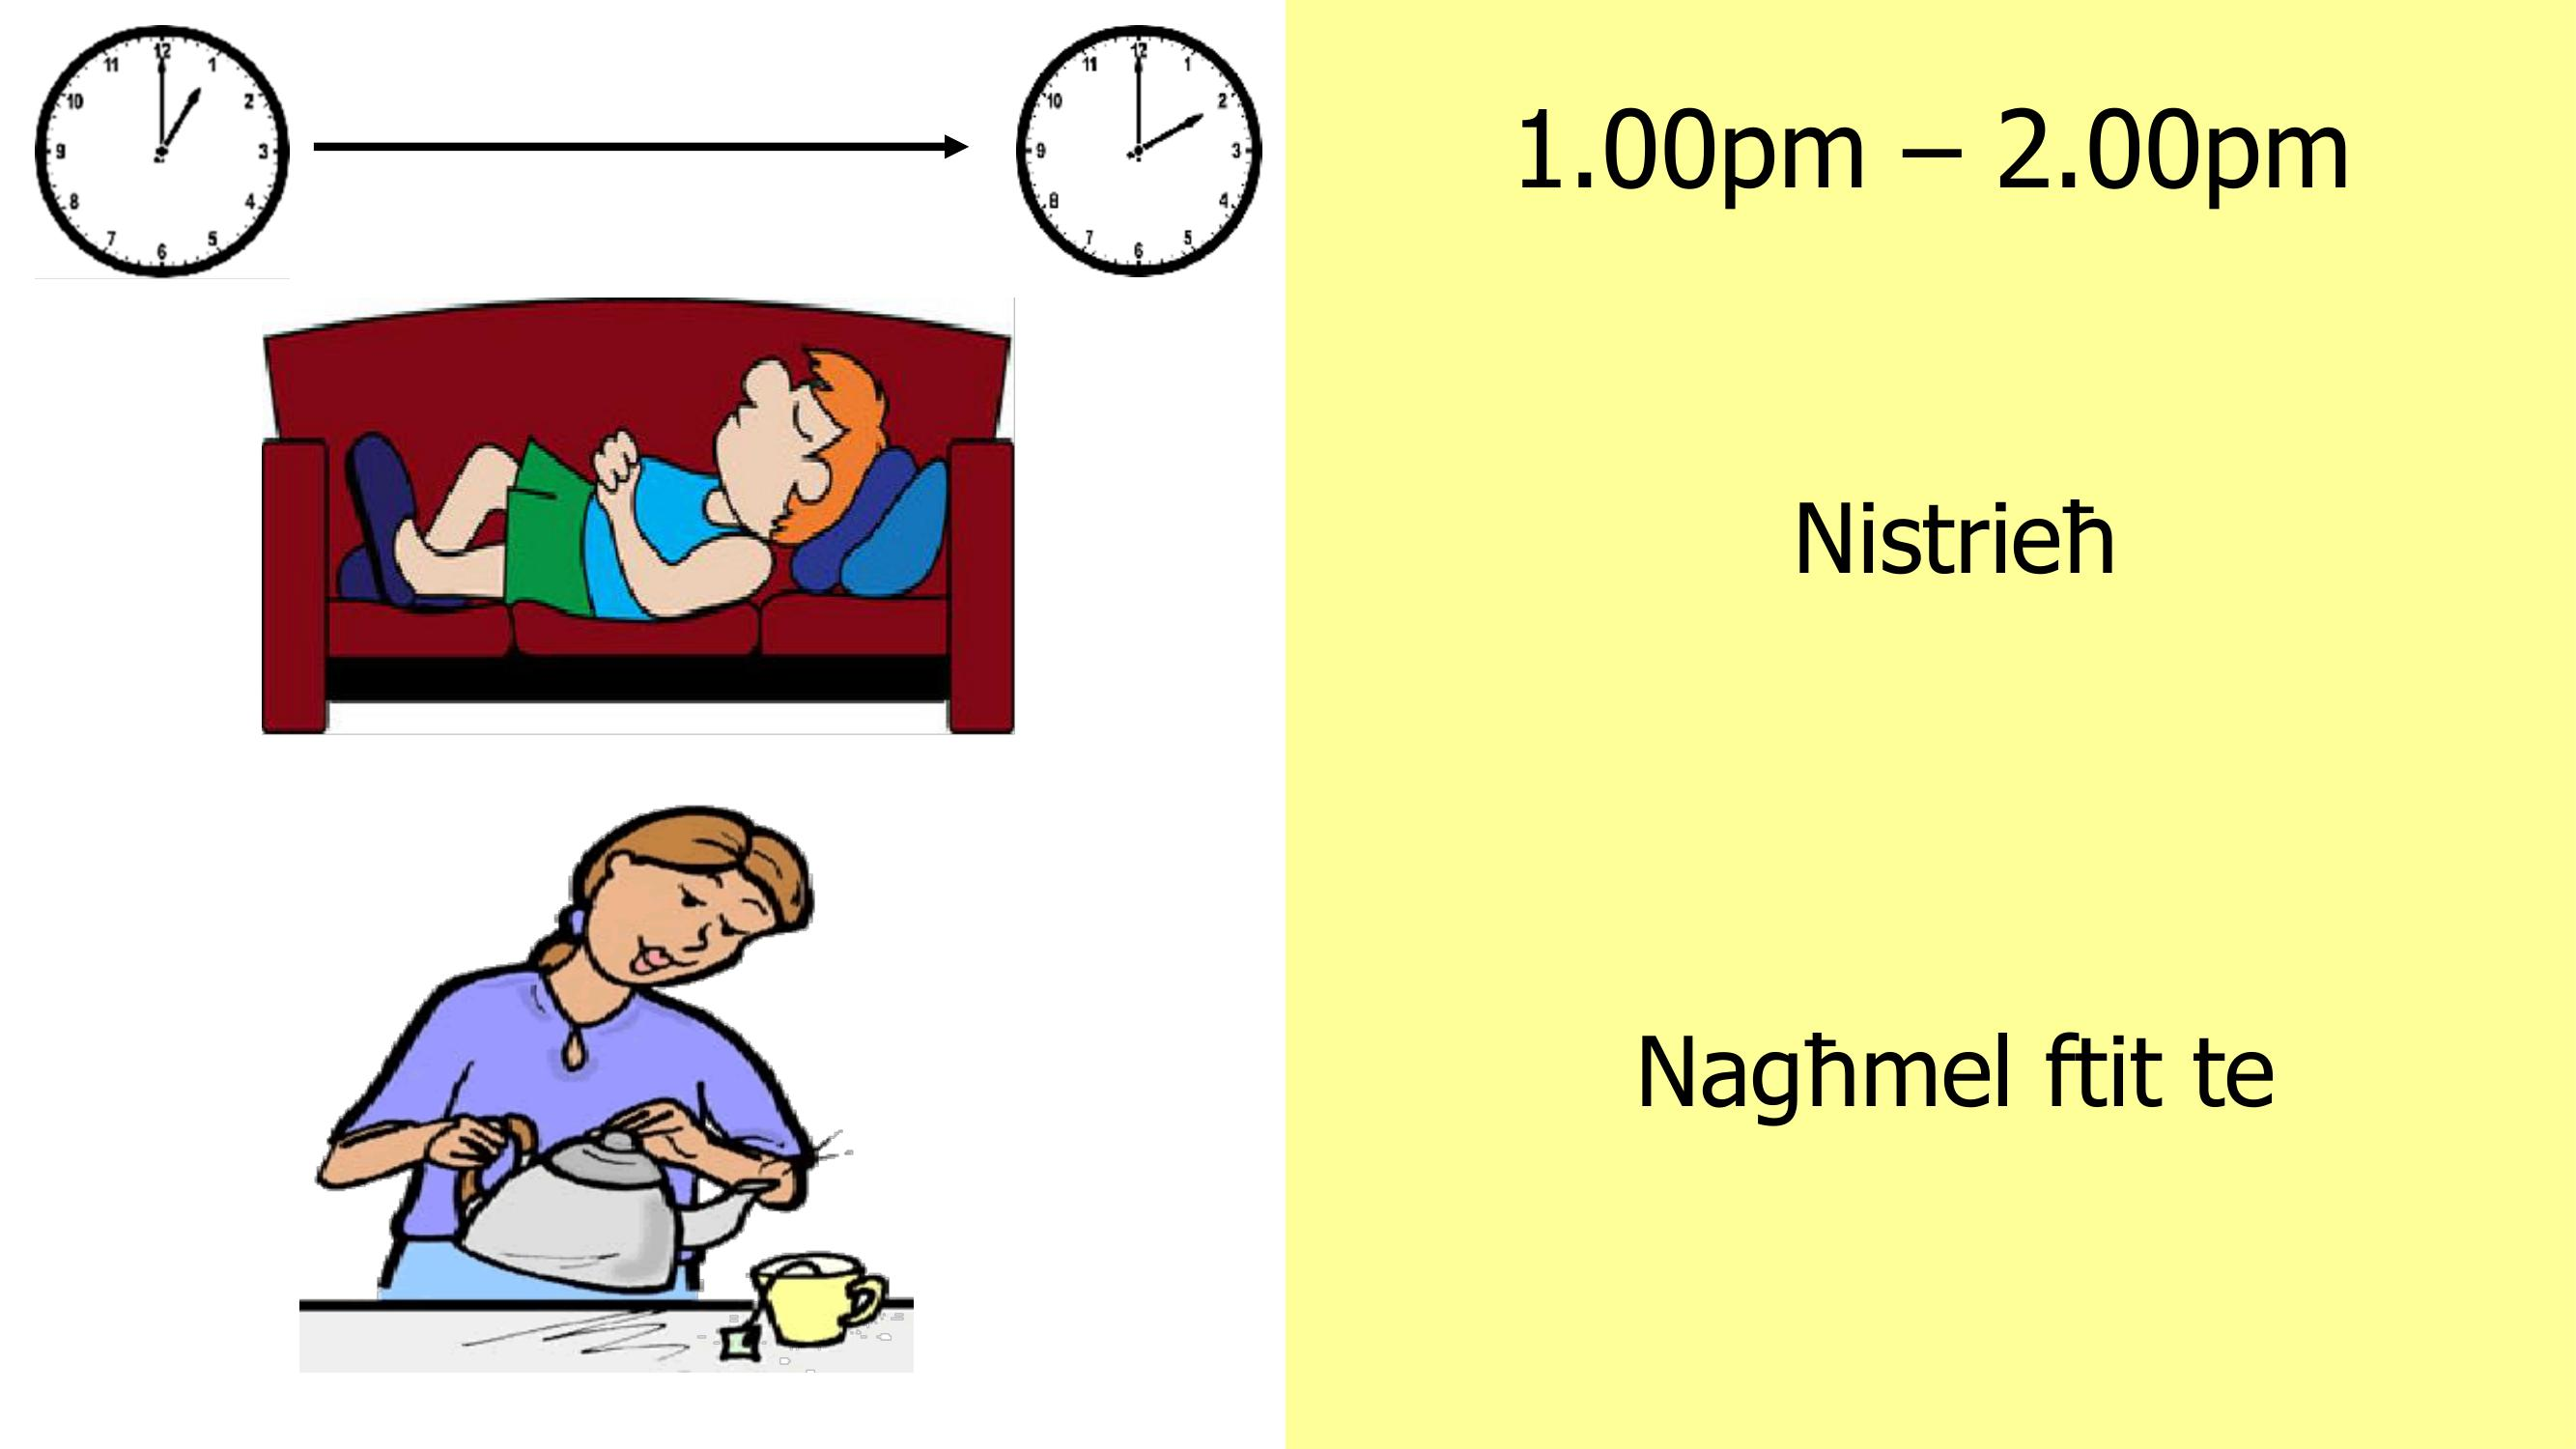text: (1578, 464, 2332, 1148)
